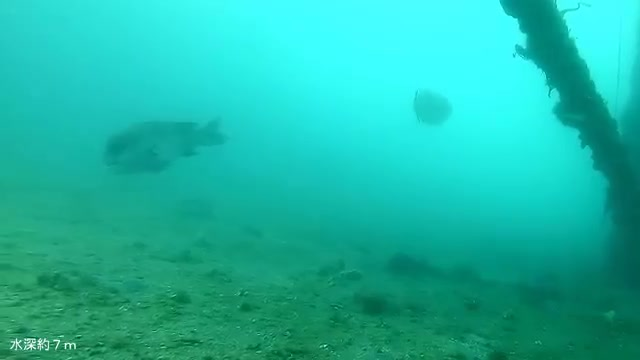smallfish: (88, 107, 245, 181)
